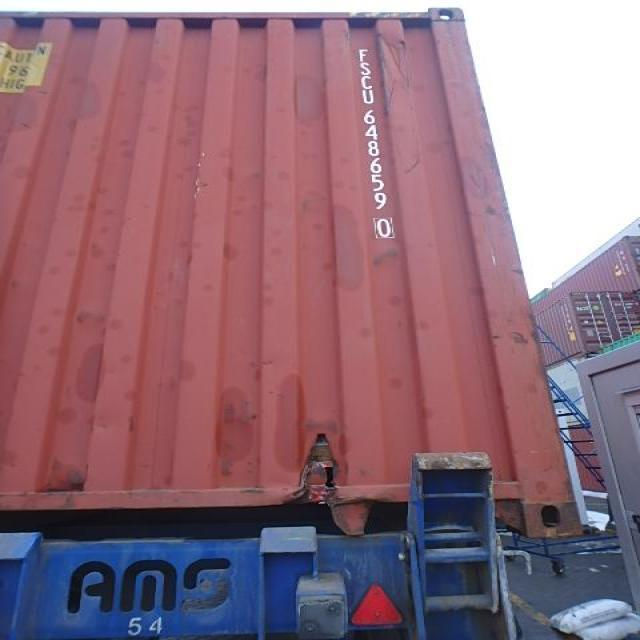hole: (321, 465, 337, 492)
